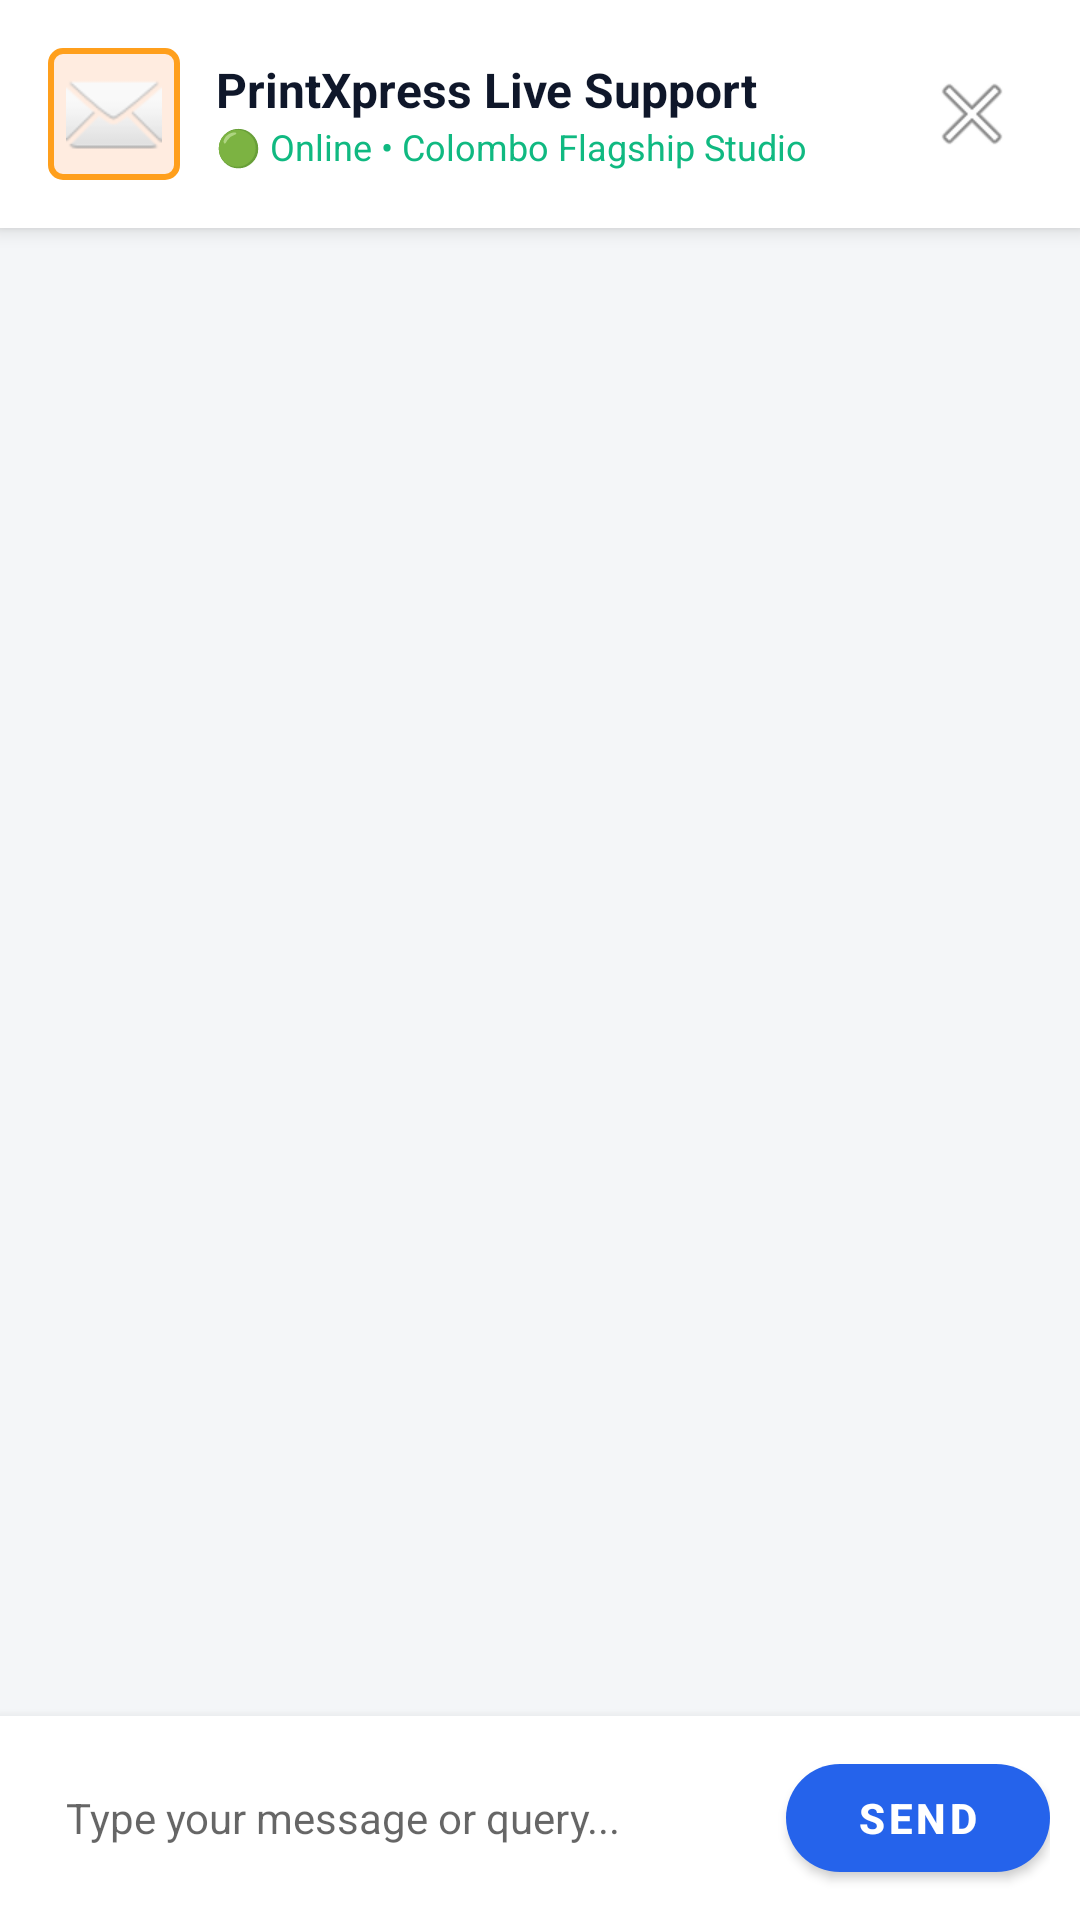

Where icons sit on this 1080px×1920px app screen, as (x1, y1, x2, y2):
Close chat: (942, 84, 1002, 144)
Support avatar: (48, 48, 180, 180)
